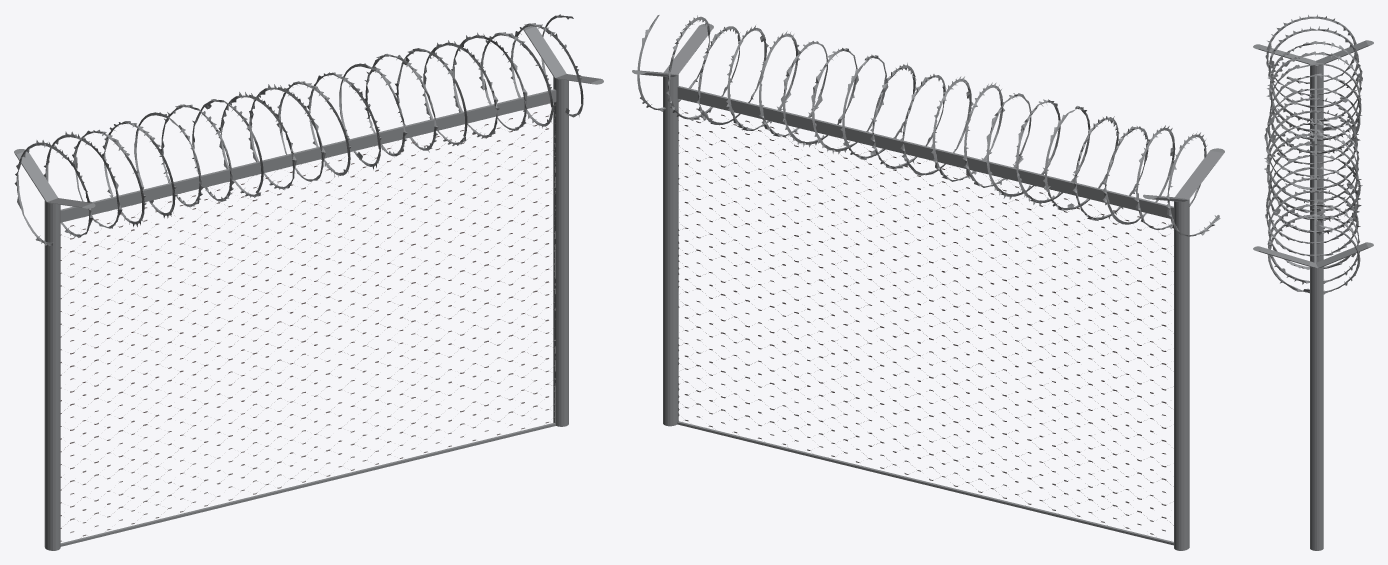
File: steel fence.fbx
The picture shows the model from 3 angles, left to right: view 1: azimuth 30°, elevation 25°; view 2: azimuth 150°, elevation 25°; view 3: azimuth 270°, elevation 25°; orthographic projection. The views are drawn at different scales.
Parts seen in each view (by area): view 1: Spring321, net_low; view 2: Spring321, net_low; view 3: Spring321.
Part boxes in pixels (x1=…): Spring321: x1=14, y1=14, x2=603, y2=550; net_low: x1=60, y1=102, x2=555, y2=541; Spring321: x1=632, y1=15, x2=1224, y2=550; net_low: x1=678, y1=101, x2=1173, y2=534; Spring321: x1=1253, y1=14, x2=1373, y2=550.
Bounding box in the file's own units: 4140 × 2978 × 982.
1 material, 1 textured.
